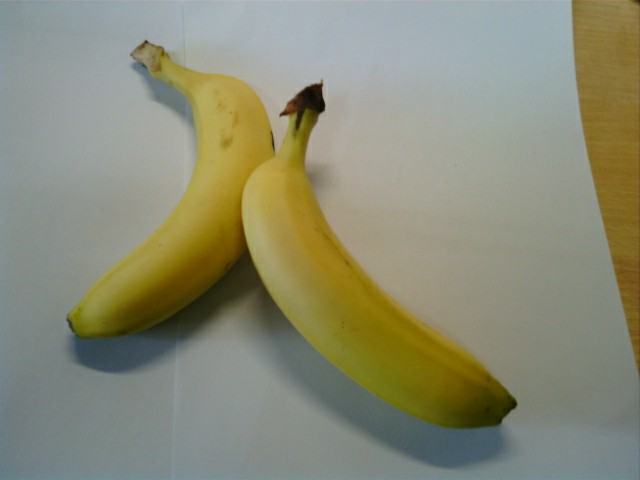fresh_banana: (245, 146, 514, 432), (64, 55, 276, 345)
